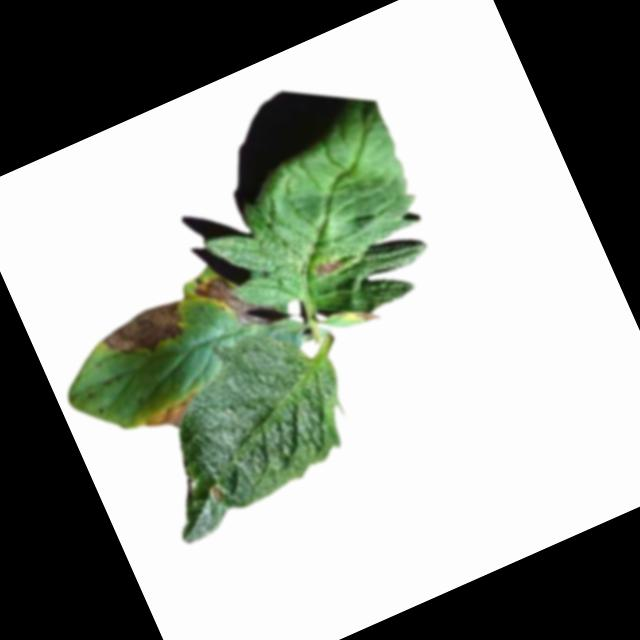Early_blight: (188, 250, 286, 349), (90, 295, 193, 373), (138, 390, 208, 442), (313, 253, 344, 281), (353, 303, 383, 329), (206, 484, 225, 504)
